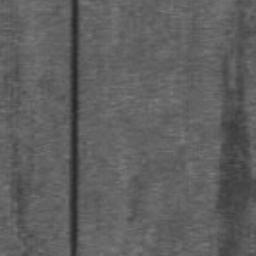Scratches: (68, 0, 85, 256)
